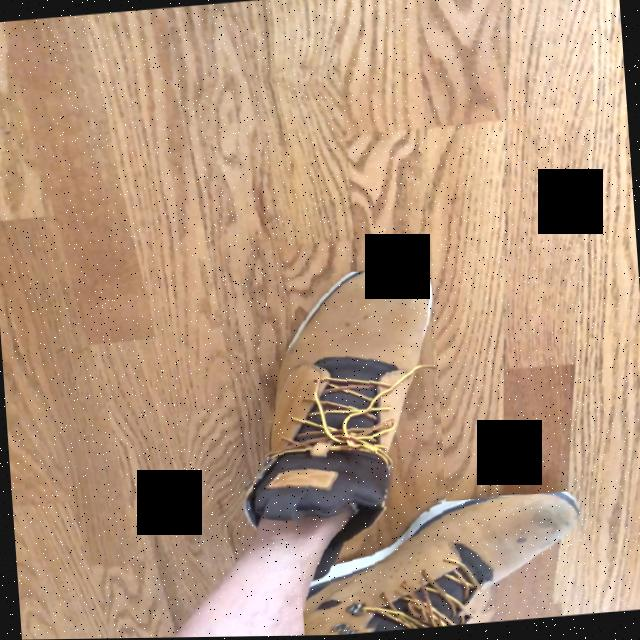shoe: (255, 268, 433, 533), (303, 493, 583, 636)
